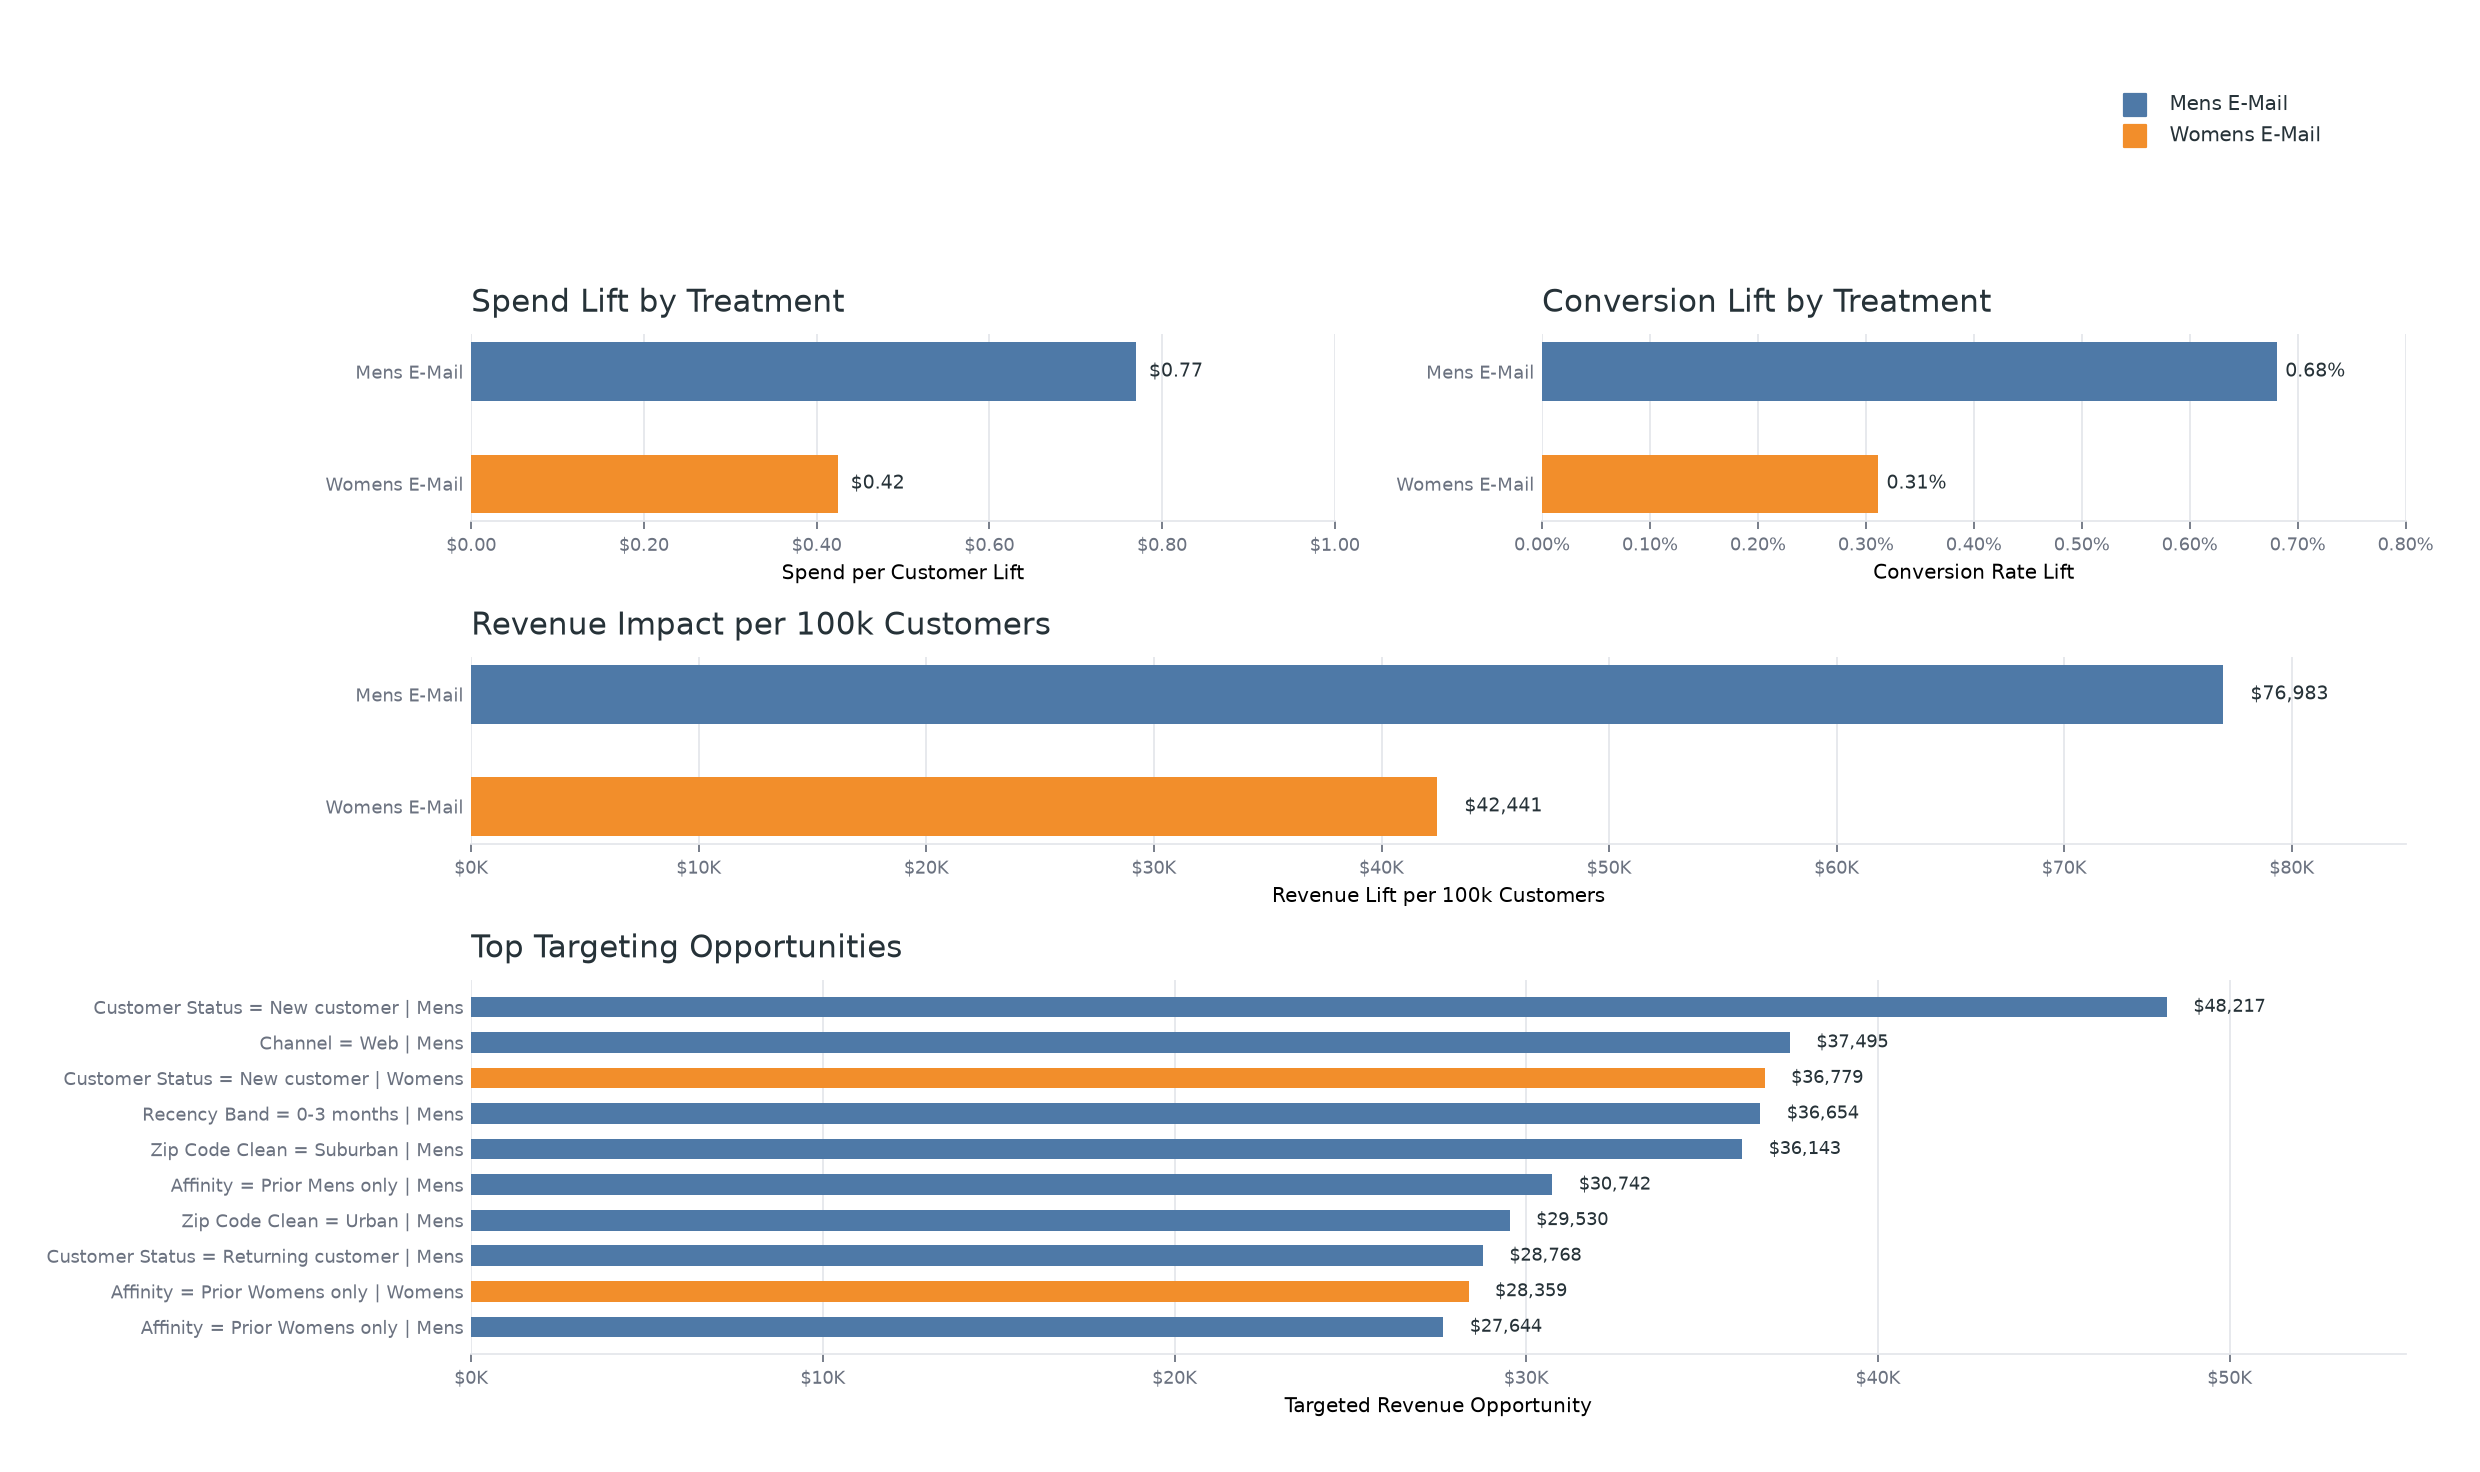

Layout of this report page (visuals, bound fields, positions):
{"tool":"tableau","page":{"name":"Campaign Impact Dashboard","canvas":[1300,900],"ordinal":0},"visuals":[{"type":"text","box":[8,8,1124,48]},{"type":"legend","title":"Conversion Lift by Treatment","param":"[federated.0o8a1tl1uwqi931d3mks405sppvn].[none:treatment_group:nk]","box":[1132,8,160,66]},{"type":"text","box":[8,56,1124,36]},{"type":"worksheet","title":"Spend Lift by Treatment","mark":"Automatic","rows":["treatment_group"],"cols":["spend_per_customer_lift"],"box":[8,92,562,177]},{"type":"worksheet","title":"Conversion Lift by Treatment","mark":"Automatic","rows":["treatment_group"],"cols":["conversion_rate_lift"],"box":[570,92,562,177]},{"type":"worksheet","title":"Revenue Impact per 100k Customers","mark":"Automatic","rows":["treatment_group"],"cols":["estimated_incremental_revenue_per_100k_customers"],"box":[8,269,1284,169]},{"type":"worksheet","title":"Top Targeting Opportunities","mark":"Automatic","rows":["segment_label","treatment_group"],"cols":["incremental_revenue_per_100k_total_customers_if_targeted"],"box":[8,438,1284,454]}]}

Visuals, with their boxes on the page's 1300x900 design canvas (x1, y1, x2, y2). These are canvas units, not pixel positions in the 2480x1472 screenshot, which may show the page scaled, cropped or inside an application window:
text: [x1=8, y1=8, x2=1132, y2=56]
"Conversion Lift by Treatment" legend: [x1=1132, y1=8, x2=1292, y2=74]
text: [x1=8, y1=56, x2=1132, y2=92]
"Spend Lift by Treatment" worksheet: [x1=8, y1=92, x2=570, y2=269]
"Conversion Lift by Treatment" worksheet: [x1=570, y1=92, x2=1132, y2=269]
"Revenue Impact per 100k Customers" worksheet: [x1=8, y1=269, x2=1292, y2=438]
"Top Targeting Opportunities" worksheet: [x1=8, y1=438, x2=1292, y2=892]
